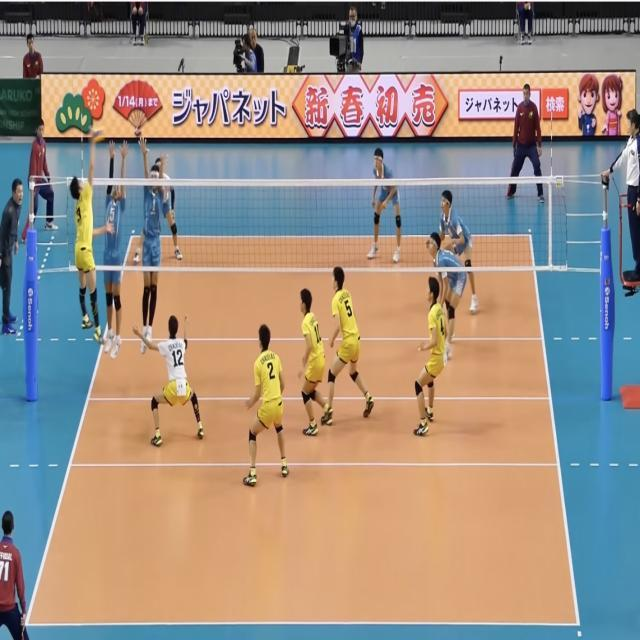spike: (69, 123, 111, 347)
